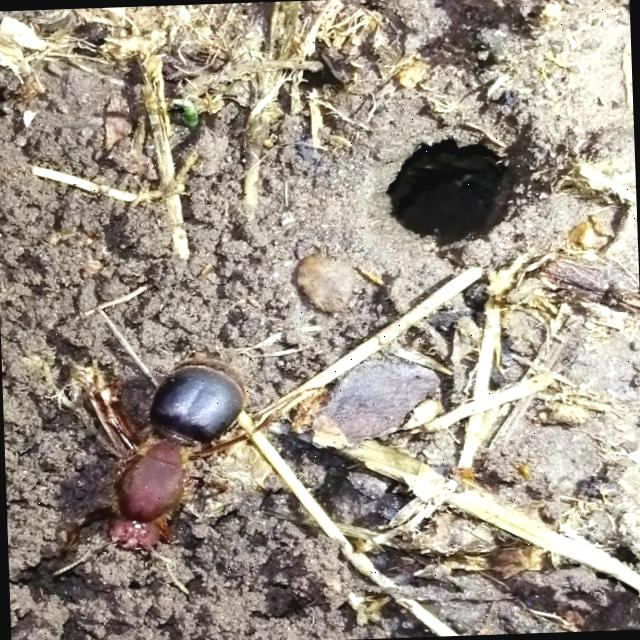Alive-Female-Dealate: (46, 350, 334, 599)
